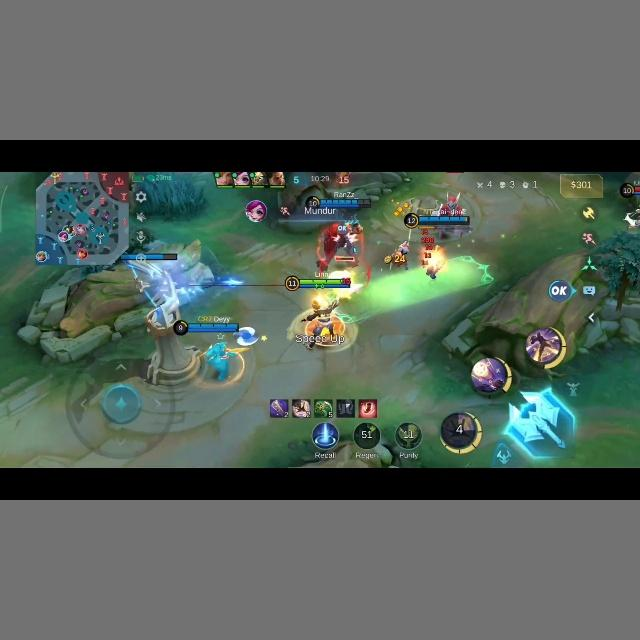hp_enemy: (618, 179, 640, 197), (334, 256, 359, 263)
hp_self: (282, 276, 356, 290), (402, 212, 471, 226), (182, 321, 242, 334), (316, 198, 373, 210), (129, 252, 177, 260)
minion_enemy: (418, 246, 443, 280), (383, 240, 409, 266), (446, 194, 462, 215)
